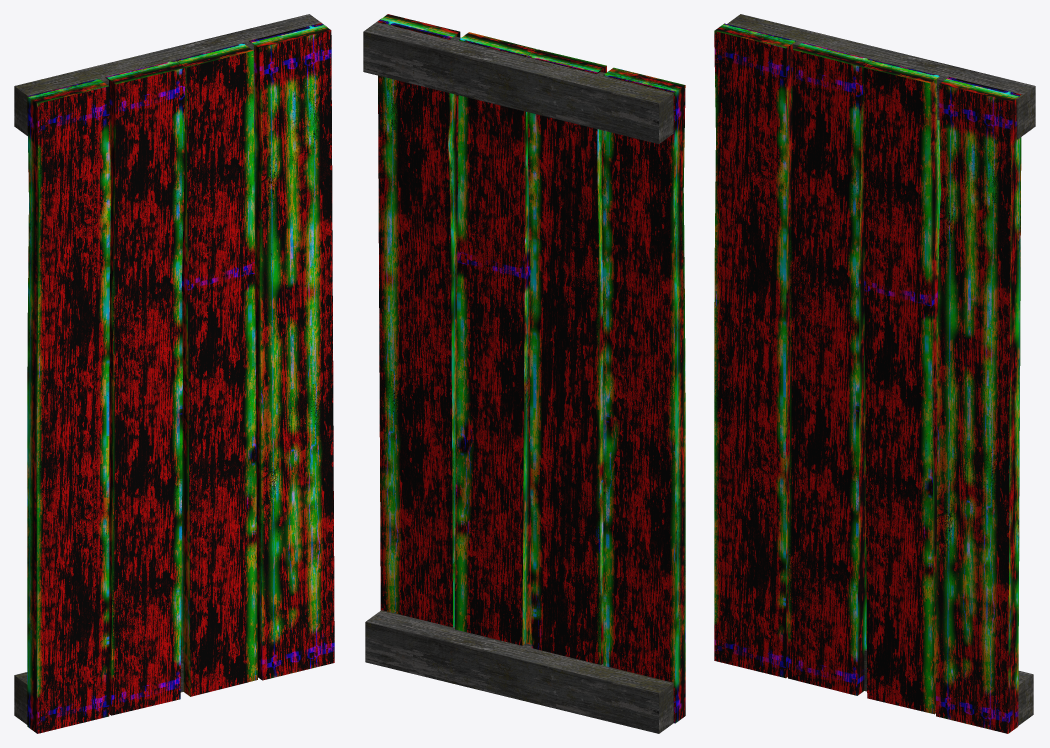
Rendered from SM_PlankWall_Wall1_001.fbx.
3 views of the same model, side by side, from view 1: azimuth 30°, elevation 25°; view 2: azimuth 150°, elevation 25°; view 3: azimuth 330°, elevation 25° (orthographic).
Parts seen in each view (by area): view 1: SM_PlankWall_Wall1_001_LOD0; view 2: SM_PlankWall_Wall1_001_LOD0; view 3: SM_PlankWall_Wall1_001_LOD0.
Boxes of the visible parts, x1,y1,x2,y2 form: SM_PlankWall_Wall1_001_LOD0: (14, 14, 334, 733); SM_PlankWall_Wall1_001_LOD0: (363, 14, 685, 733); SM_PlankWall_Wall1_001_LOD0: (714, 14, 1035, 733).
Size of the model in its own units: 149 by 22.88 by 301.
